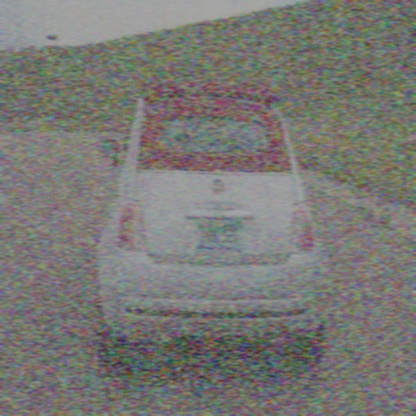Vehicle: (96, 81, 331, 372)
